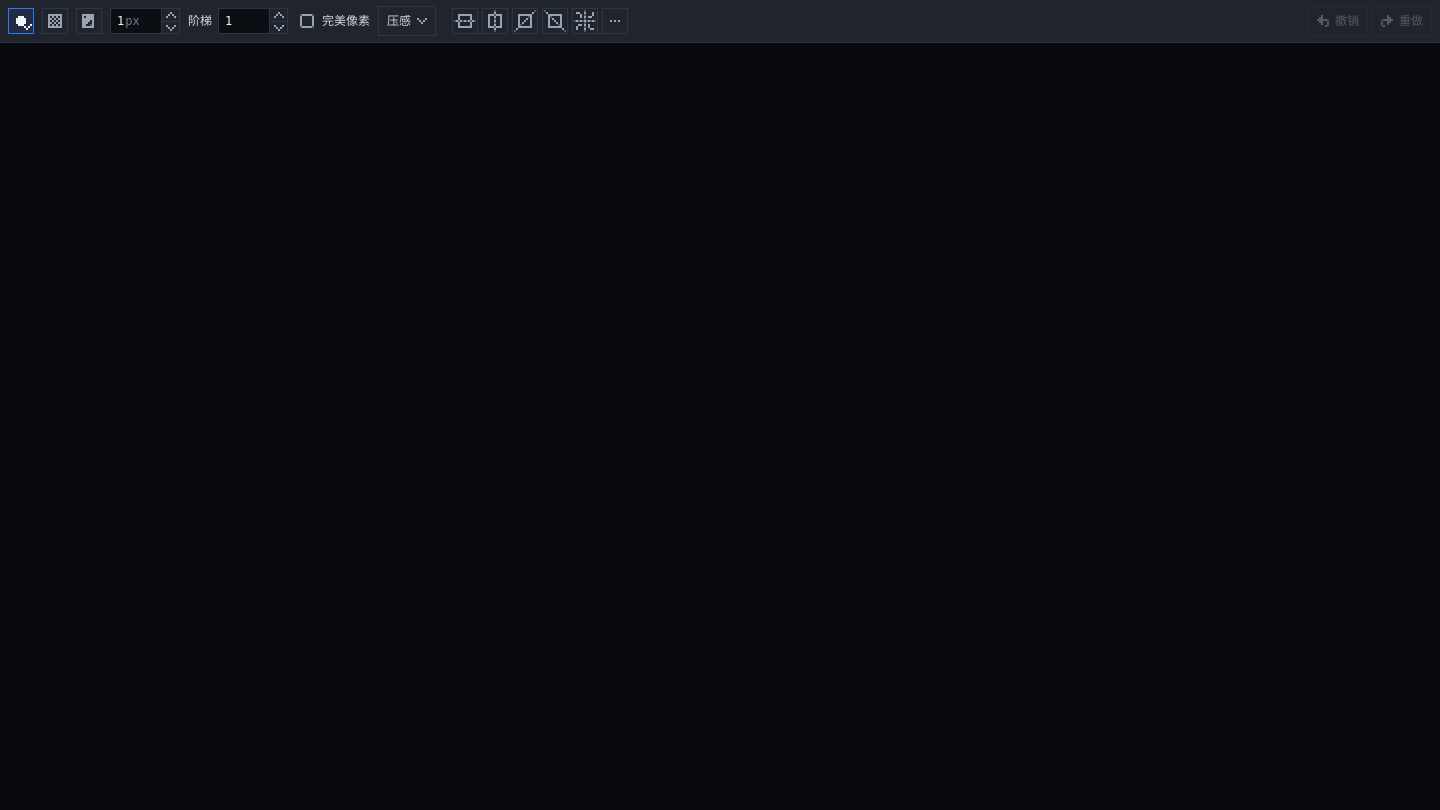
Test: EditorToolOptions basic brush selector › keeps a dragged dither selector resident until its title-bar close button is used
Click the button named "抖动笔刷": (55, 21) 42,8 -> 68,34
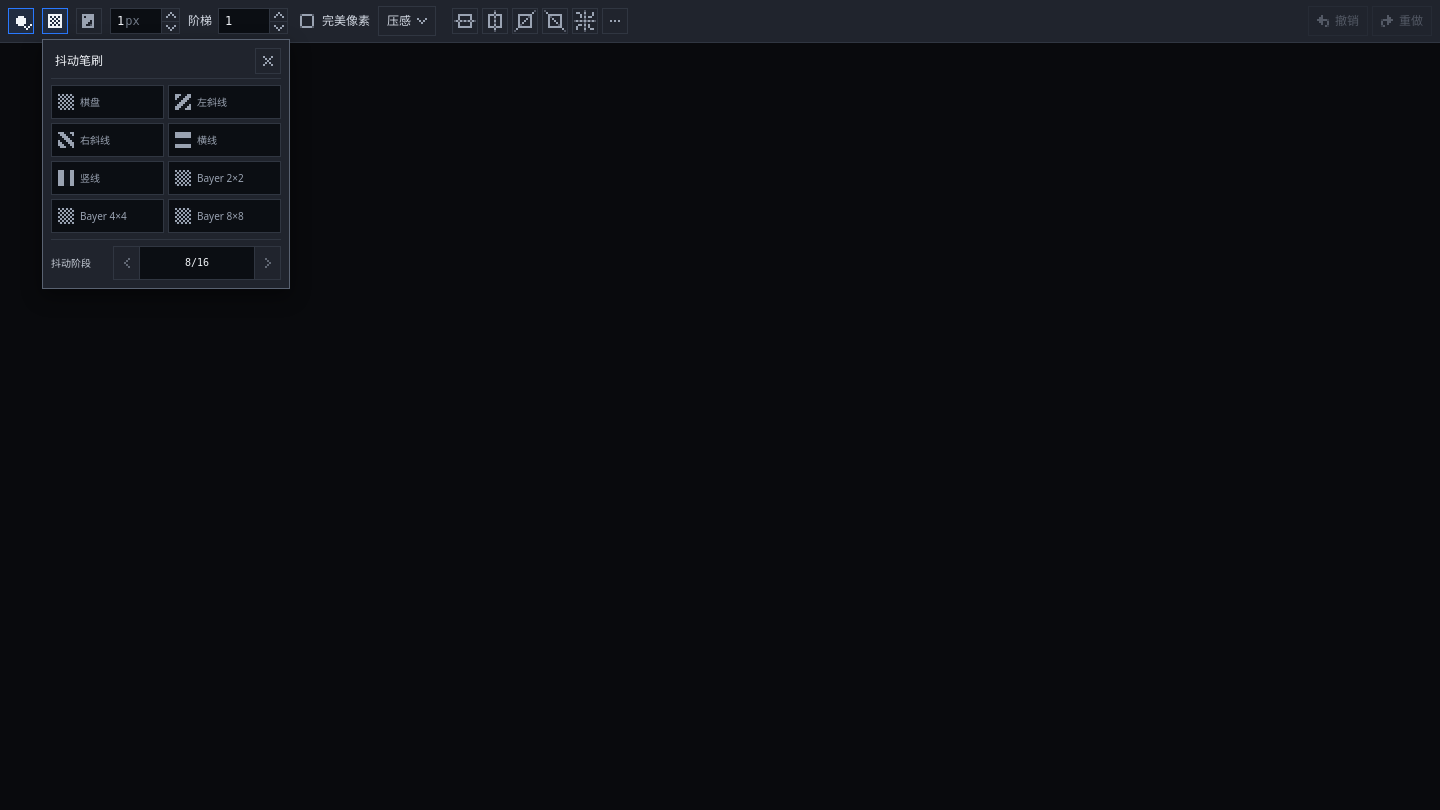
Press the mouse on the element that starts with "完美像素": (720, 405) 0,0 -> 1439,809
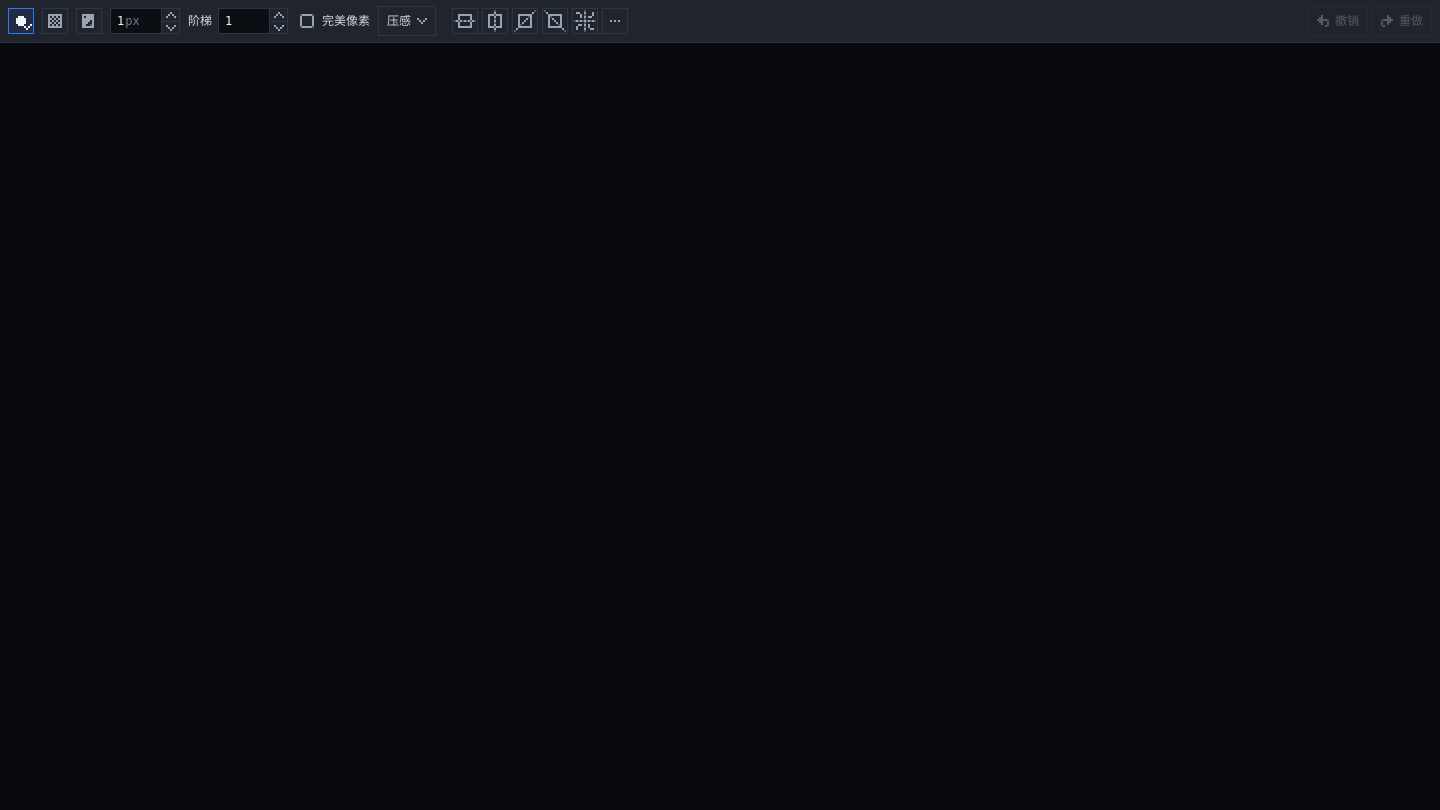
Check: the text "抖动笔刷" is gone
Click the button named "抖动笔刷": (55, 21) 42,8 -> 68,34
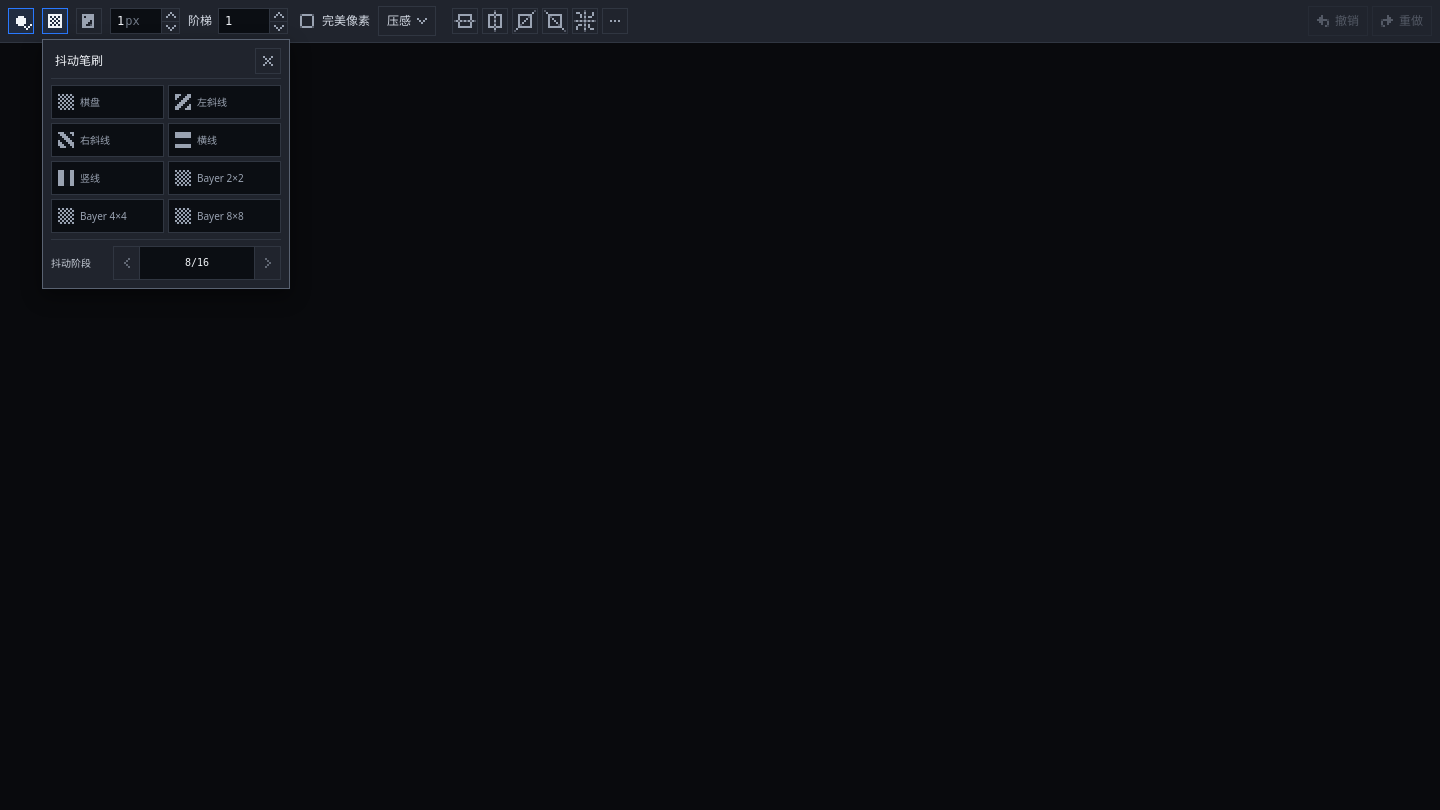
Press the mouse on the header with class "brush-dither-titlebar": (166, 64) 51,48 -> 281,79
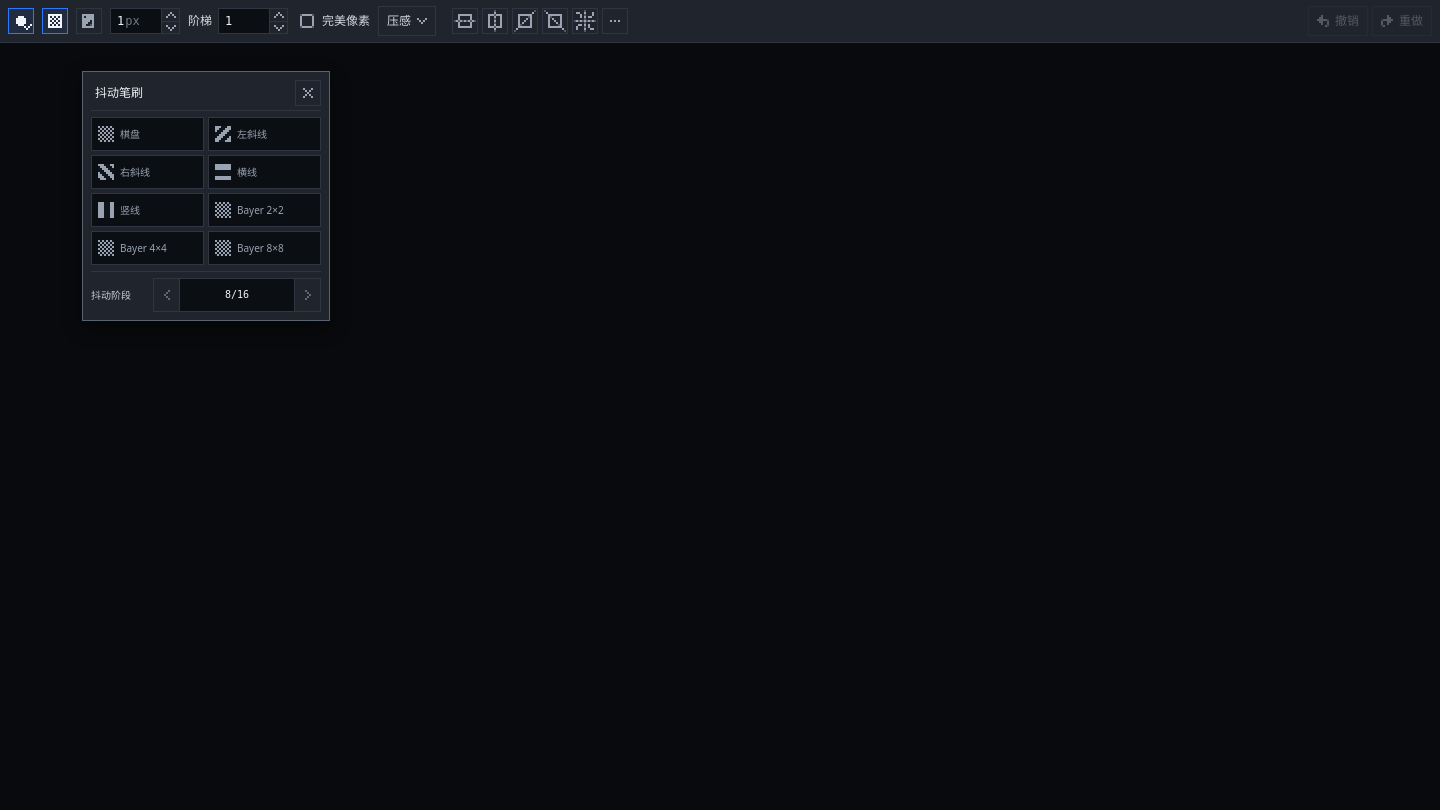
Check: the dialog "抖动笔刷" has class "resident", box 82,71 -> 330,321
Press the mouse on the element that starts with "完美像素": (720, 405) 0,0 -> 1439,809
Check: the dialog "抖动笔刷" is shown, box 82,71 -> 330,321
Click the button named "关闭 抖动笔刷": (308, 93) 295,80 -> 321,106
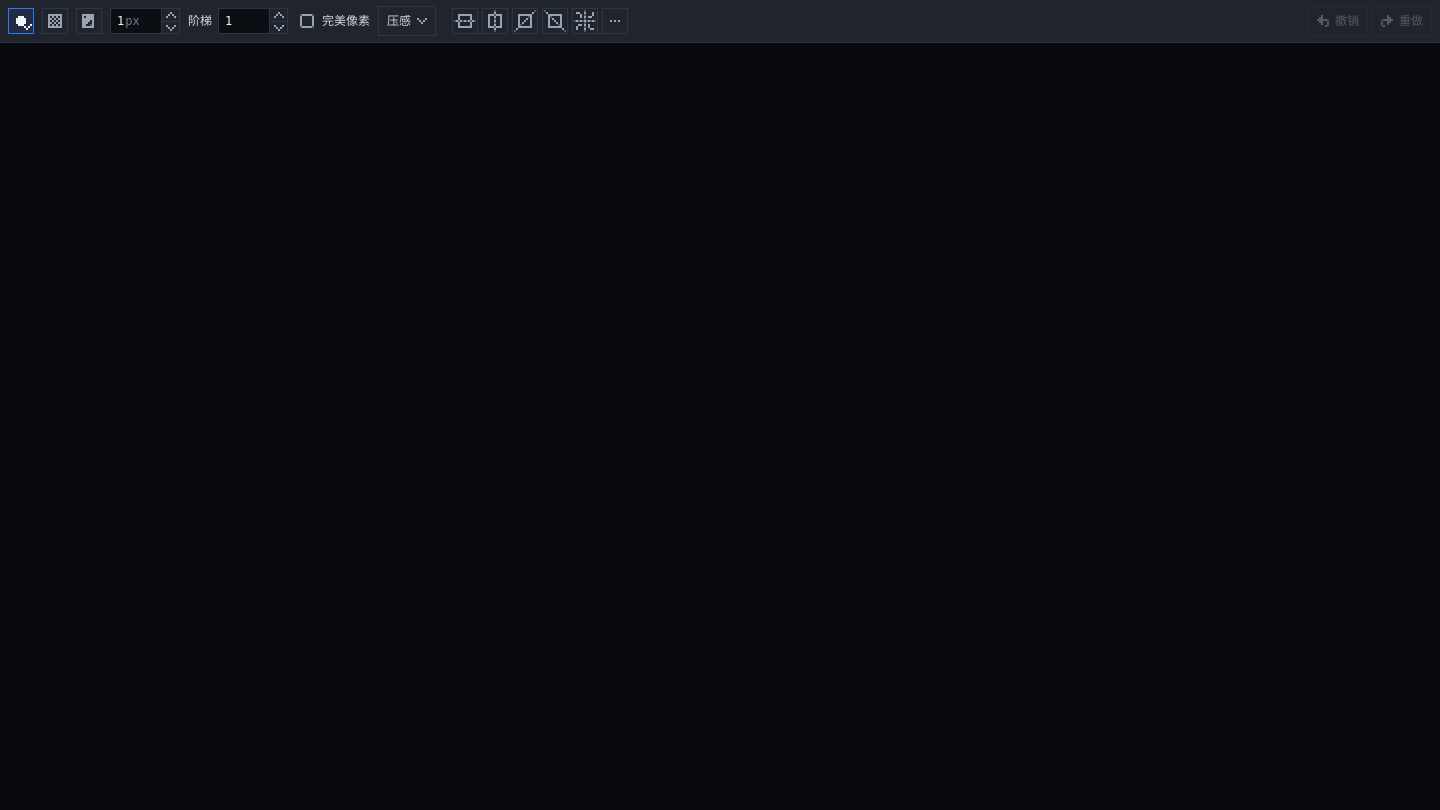
Check: the text "抖动笔刷" is gone
